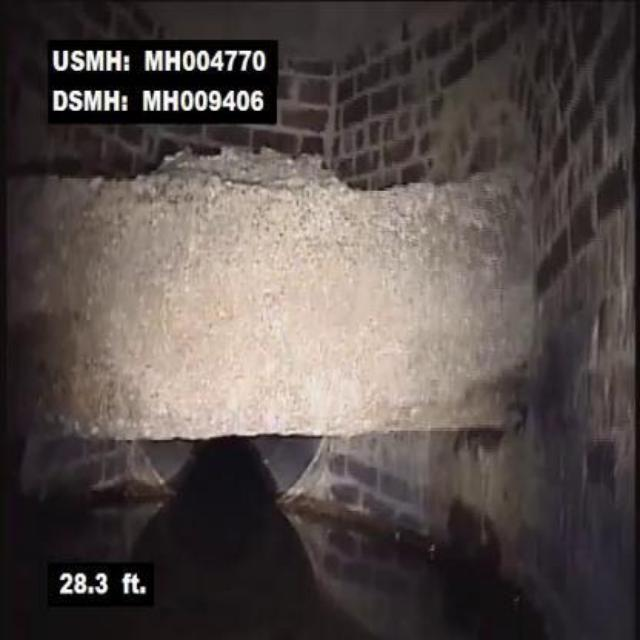Utility intrusion: (5, 145, 555, 460)
